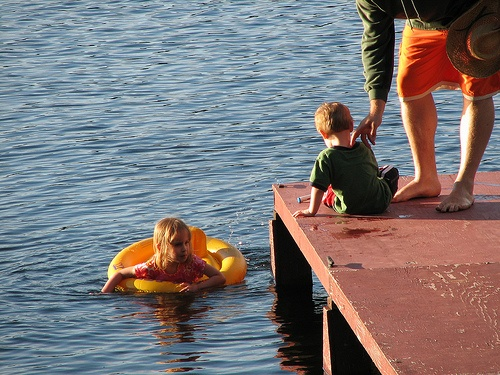head: (311, 99, 356, 155), (153, 218, 191, 266)
person: (351, 0, 499, 218), (292, 99, 397, 218), (106, 215, 222, 293)
